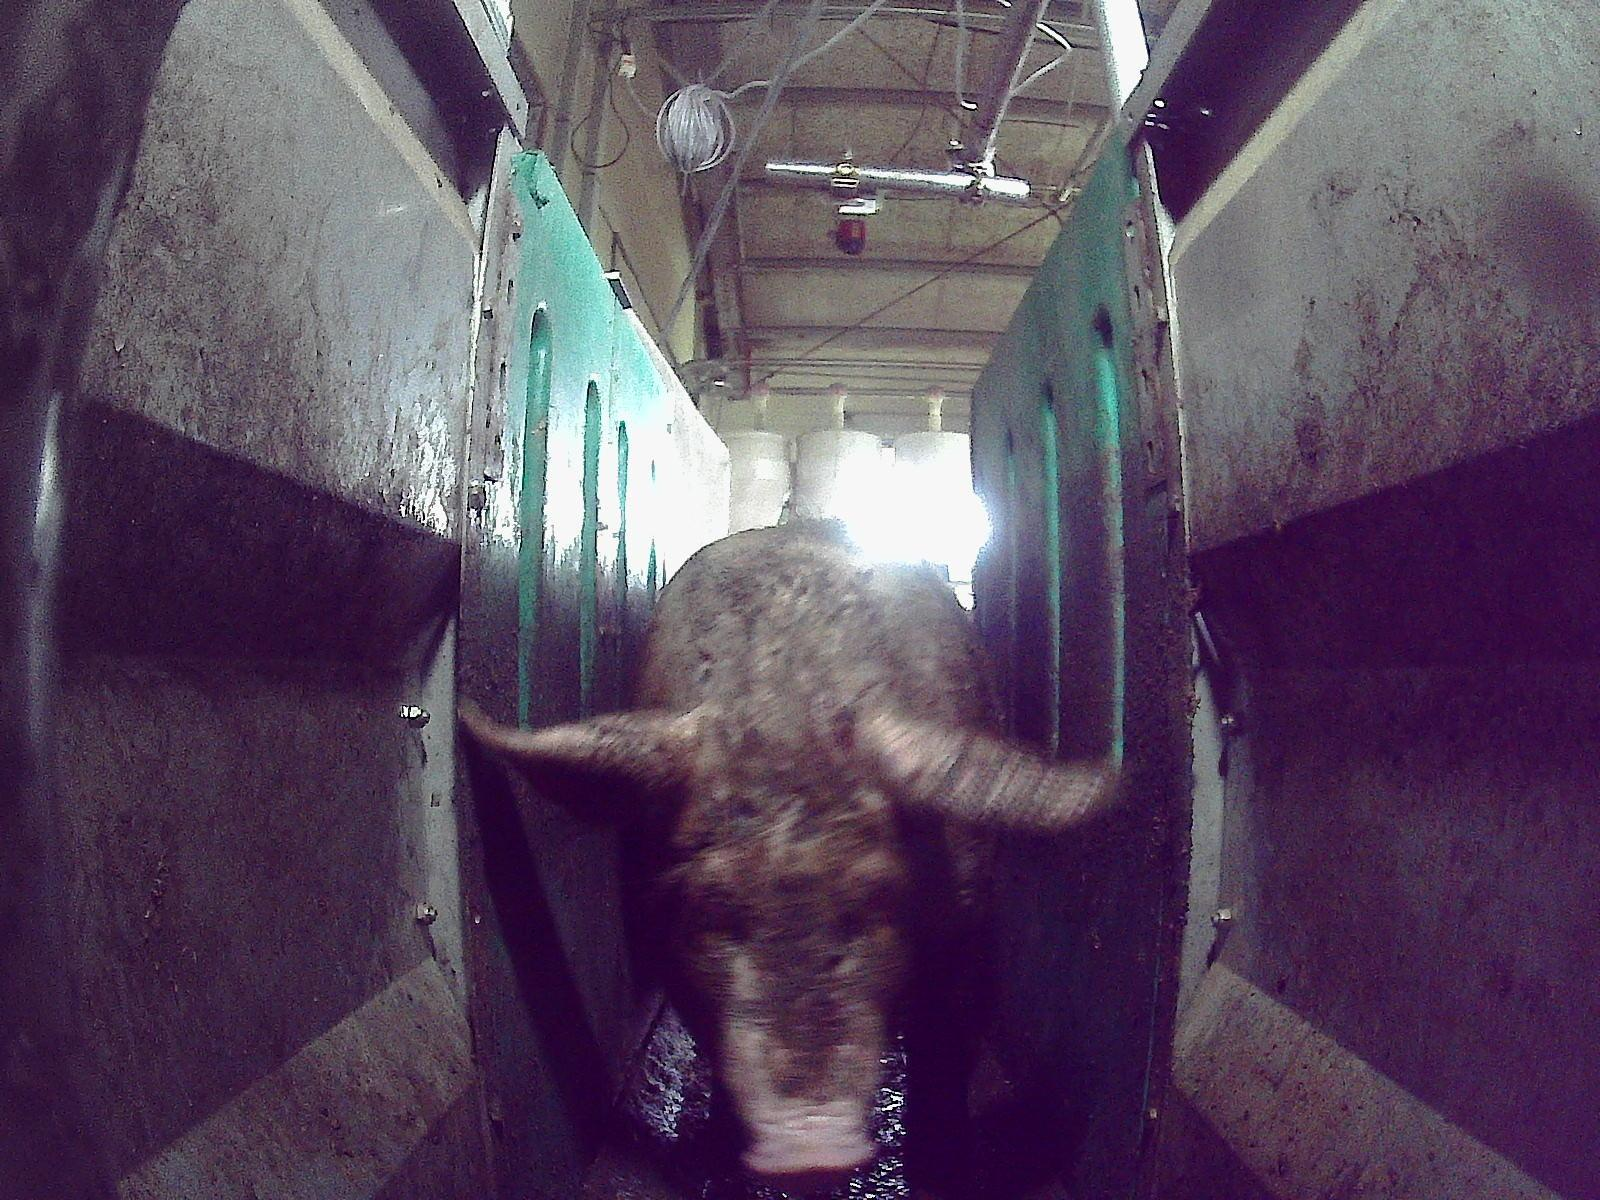Face: (654, 712, 931, 1182)
